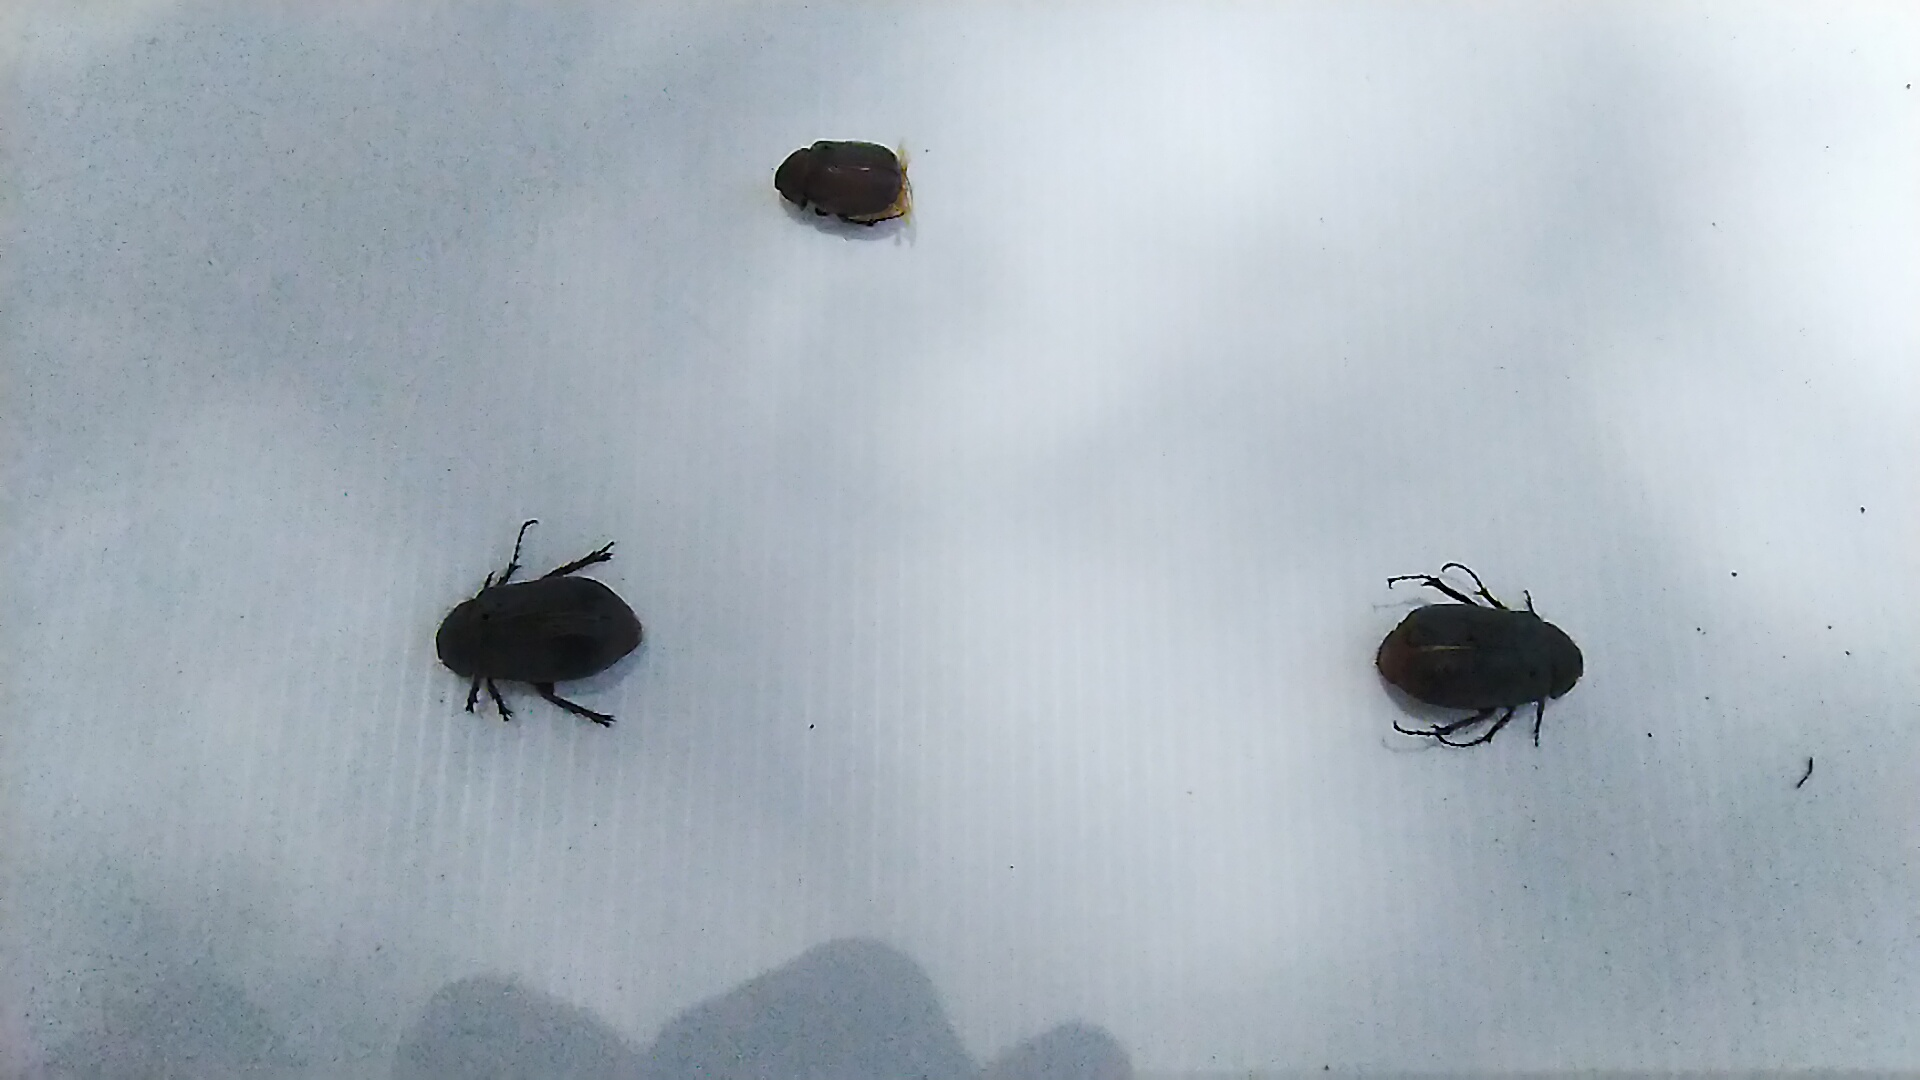INS-A: (411, 516, 658, 752), (1362, 543, 1596, 761), (767, 131, 928, 236)
